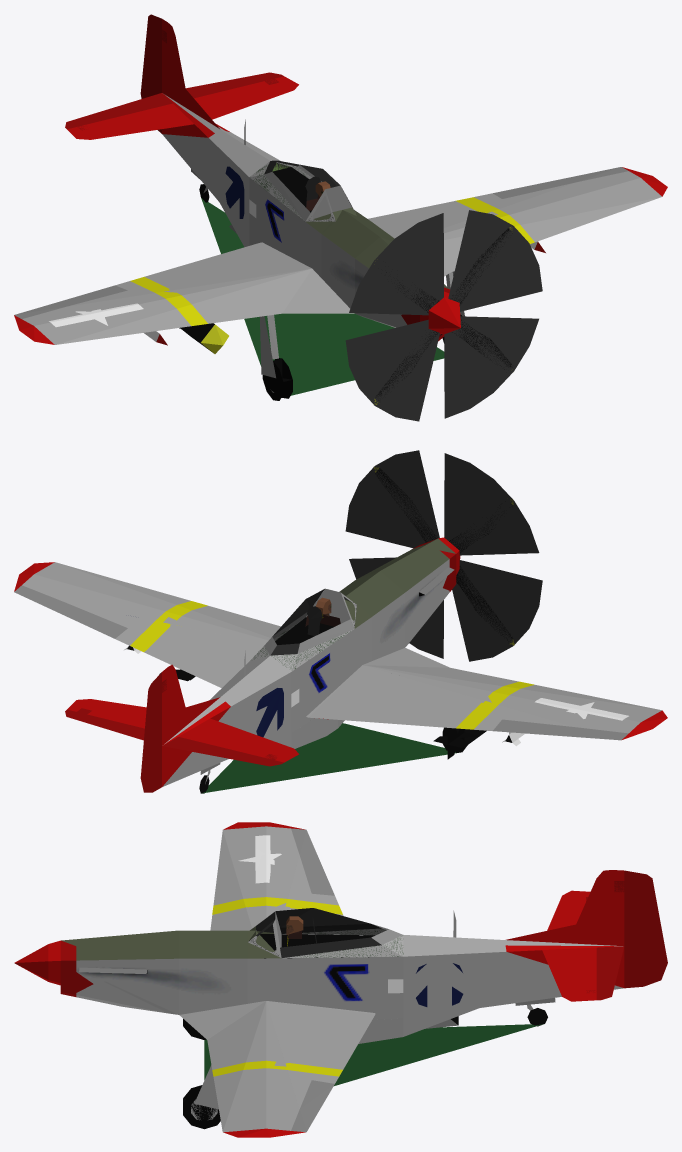
3 renders of one model, top to bottom at view 1: azimuth 30°, elevation 25°; view 2: azimuth 150°, elevation 25°; view 3: azimuth 270°, elevation 25°, orthographic. The views are drawn at different scales.
Parts seen in each view (by area): view 1: part_80, part_89, part_8d, part_00, part_81, part_9d, part_76, part_6e, part_6d, part_85, part_6f, part_70 (+5 smaller); view 2: part_80, part_00, part_81, part_89, part_8d, part_76, part_9d, part_6e, part_6f, part_79, part_6d, part_85 (+4 smaller); view 3: part_00, part_81, part_76, part_80, part_9d, part_6f, part_6e, part_79, part_70, part_93, part_71, part_6d (+1 smaller).
Part boxes in pixels (x1,y1,x2,y2): part_80: (14,243,354,344); part_89: (349,210,538,421); part_8d: (345,213,542,418); part_00: (249,161,461,397); part_81: (368,167,667,276); part_9d: (201,198,444,395); part_76: (77,78,280,247); part_6e: (67,76,298,139); part_6d: (65,72,283,129); part_85: (374,227,512,404); part_6f: (140,14,166,133); part_70: (162,19,189,109); part_80: (309,648,667,739); part_00: (249,537,460,748); part_81: (14,562,280,688); part_89: (349,450,539,661); part_8d: (345,453,542,658); part_76: (77,650,291,786); part_9d: (201,723,458,793); part_6e: (67,699,298,762); part_6f: (140,672,166,792); part_79: (264,589,354,655); part_6d: (65,709,283,766); part_85: (374,467,514,645); part_00: (14,911,403,1120); part_81: (179,1001,374,1137); part_76: (403,897,624,1036); part_80: (210,822,343,934); part_9d: (204,1024,543,1085); part_6f: (614,870,667,988); part_6e: (542,890,596,1001); part_79: (275,908,402,957); part_70: (568,870,624,946); part_93: (183,1065,220,1129); part_71: (291,828,334,895); part_6d: (596,946,624,1000).
Size of the model in its own units: 4390 by 1459 by 3844.
30 materials, 1 textured.
